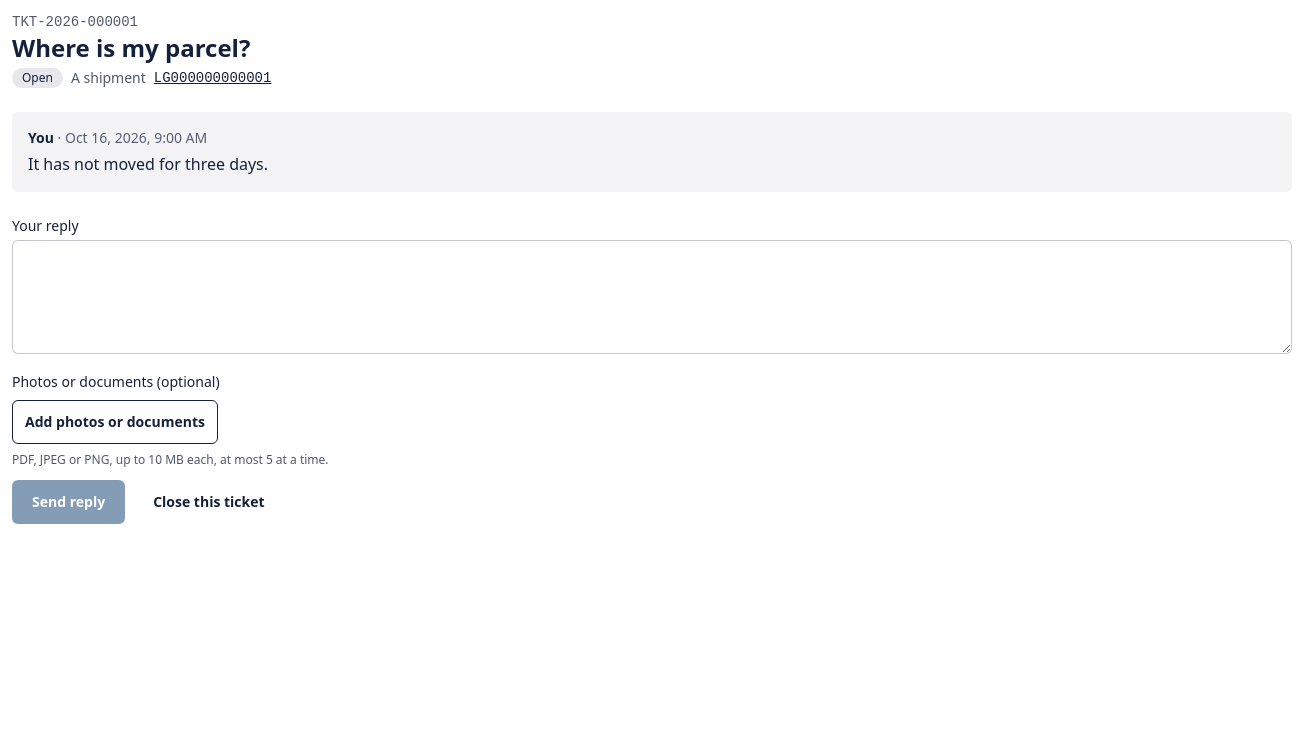
Scenario: TicketThread › handles a ticket that was closed while the customer was typing
Type "Hello?" into the text box labelled "Your reply" at (652, 297), box [12,240,1292,354]
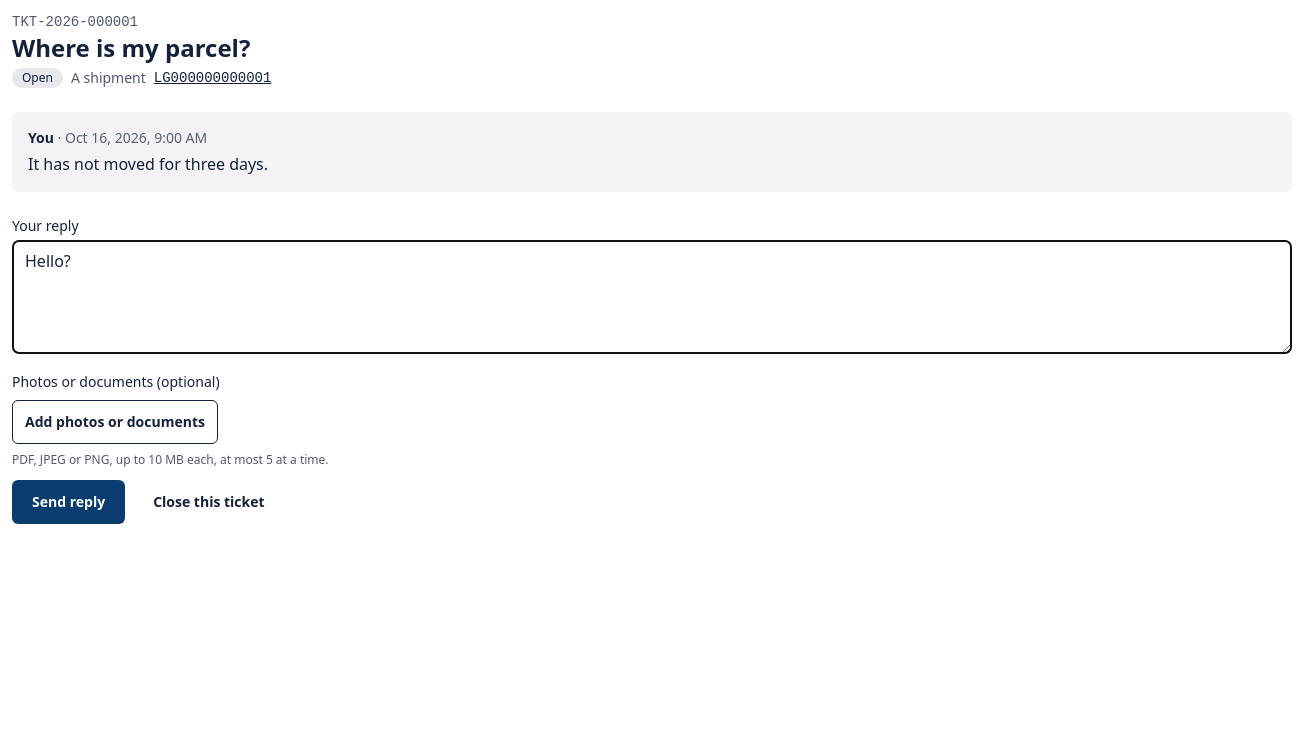
Click the button "Send reply" at (69, 502), box [12,480,125,524]
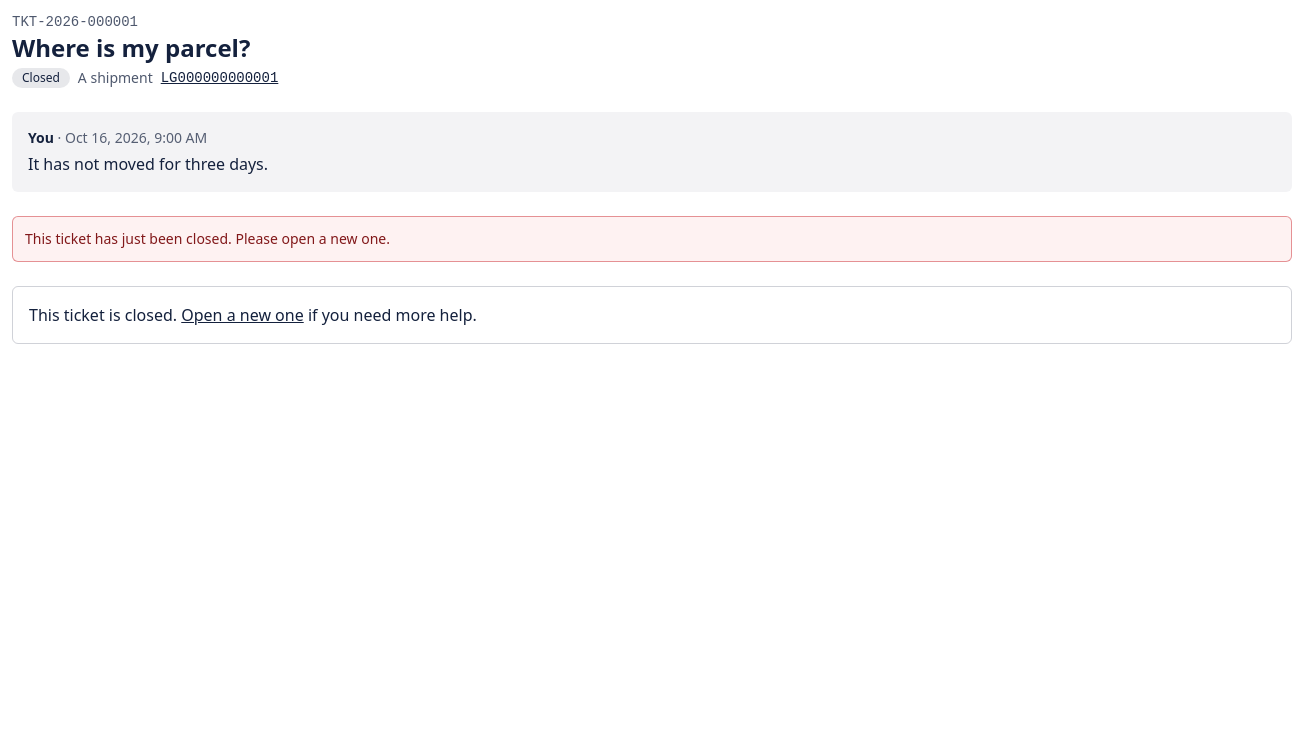
Now the text "This ticket has just been closed. Please open a new one." is shown, box [12,216,1292,262]
Now the text "This ticket is closed. Open a new one if you need more help." is shown, box [12,286,1292,344]
